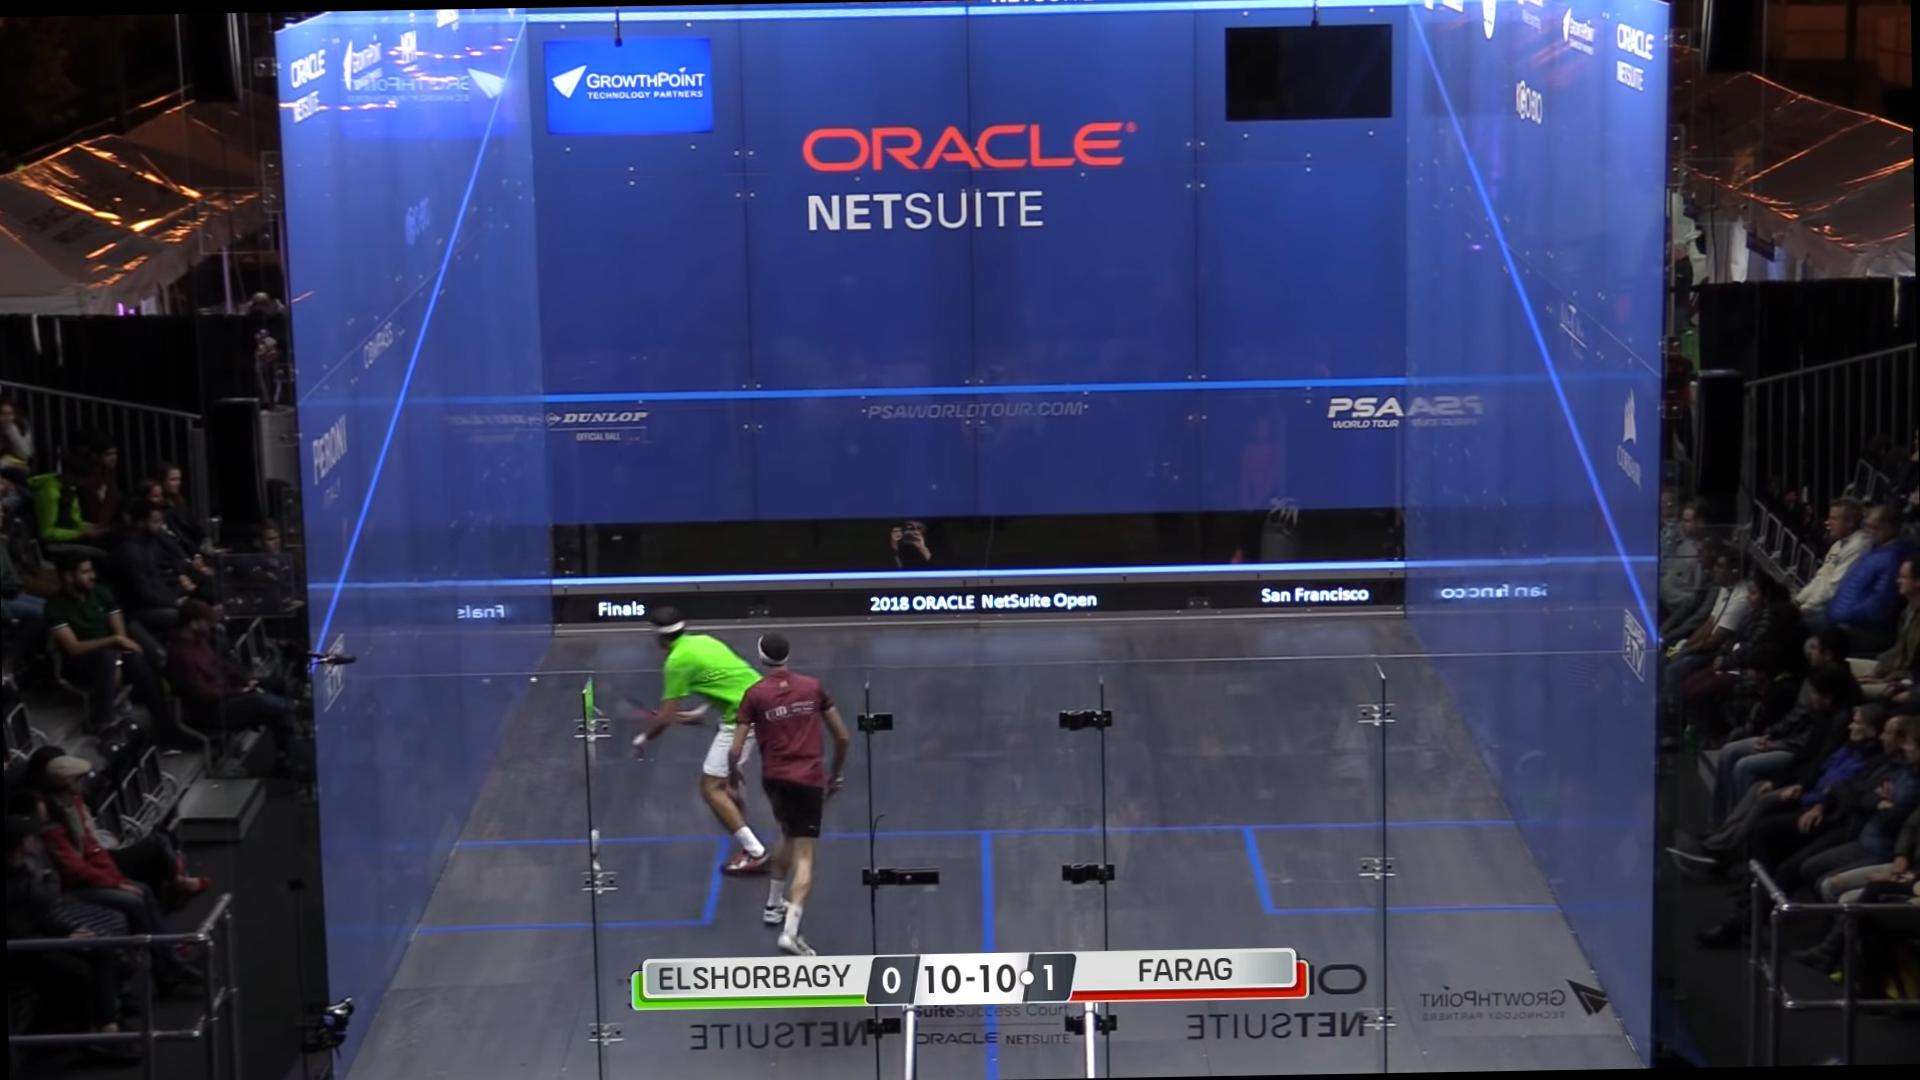Squash-Ball: (527, 675, 538, 680)
